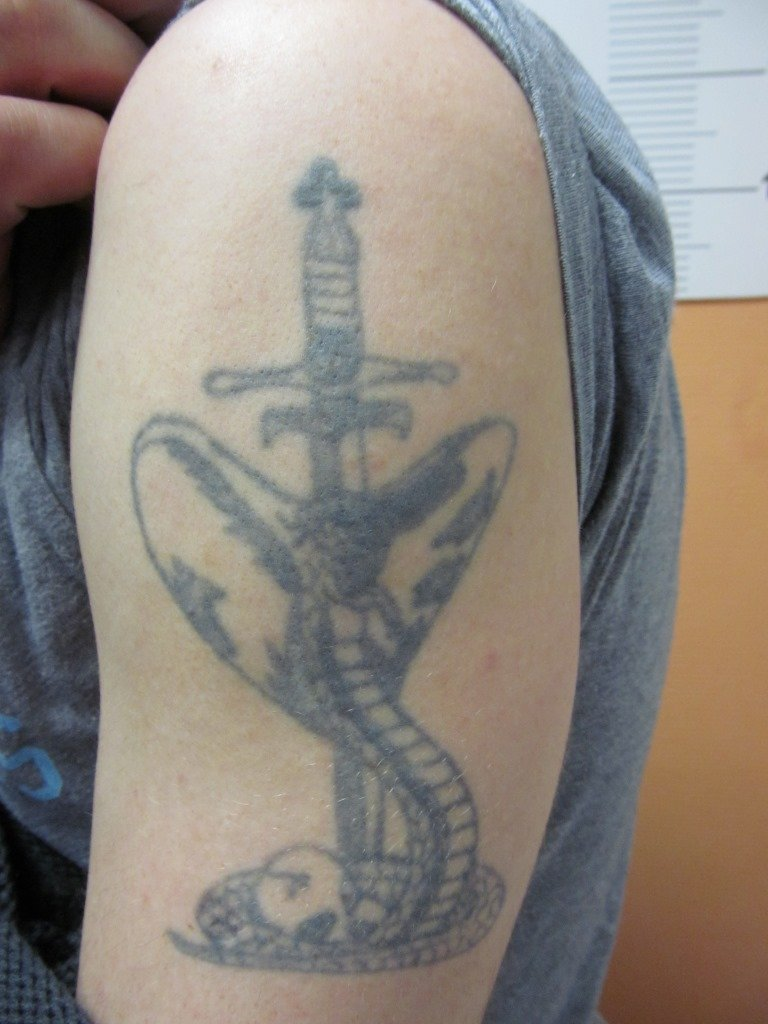tatu7_zmeya: (123, 217, 535, 967)
